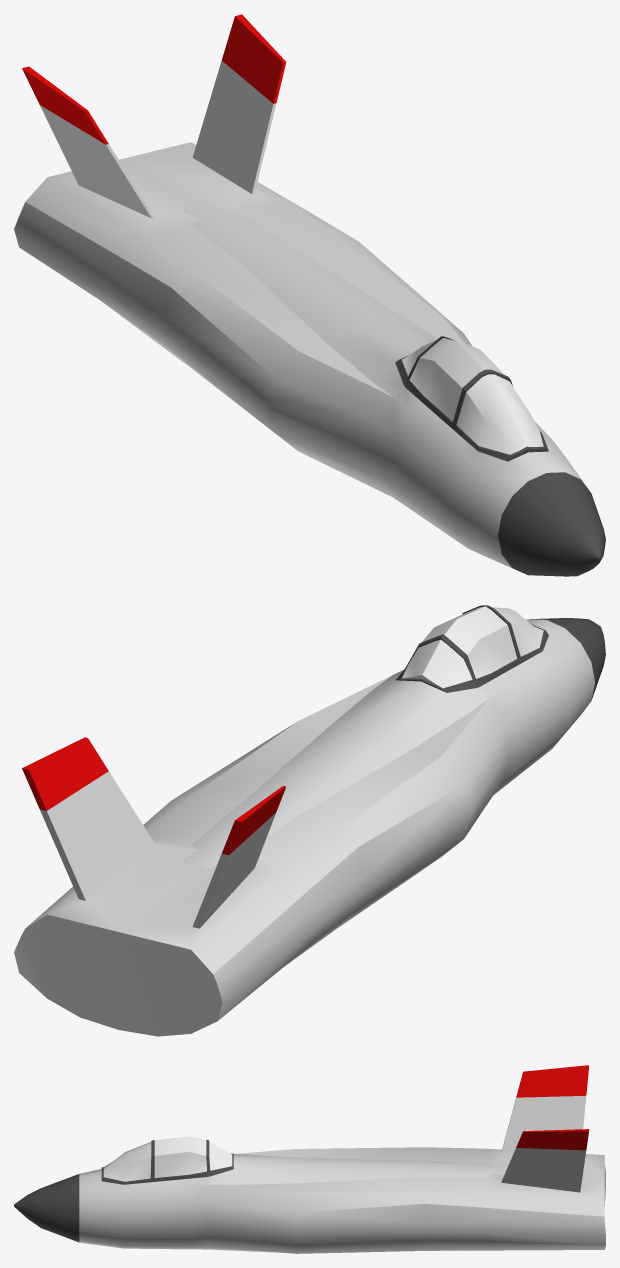
File: 1_Body.fbx
The picture shows the model from 3 angles, top to bottom: view 1: azimuth 30°, elevation 25°; view 2: azimuth 150°, elevation 25°; view 3: azimuth 270°, elevation 25°; orthographic projection. The views are drawn at different scales.
Parts seen in each view (by area): view 1: Body1; view 2: Body1; view 3: Body1.
Boxes of the visible parts, x1,y1,x2,y2 form: Body1: (14, 14, 605, 576); Body1: (14, 605, 605, 1036); Body1: (14, 1065, 605, 1253).
Size of the model in its own units: 71.29 by 73.93 by 270.
